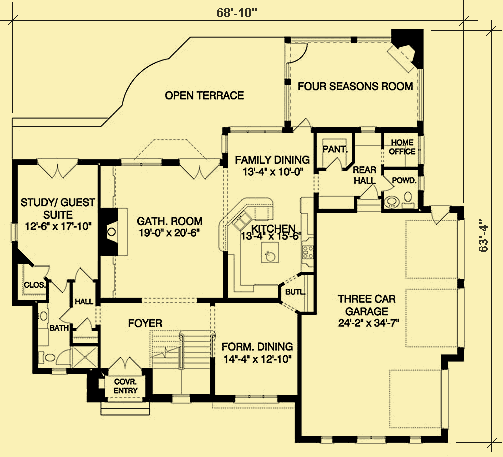door: (33, 158, 79, 181), (177, 157, 221, 181), (106, 355, 141, 371), (286, 42, 308, 66), (428, 204, 450, 228), (72, 266, 94, 284), (290, 117, 316, 132), (47, 278, 71, 292), (325, 157, 343, 175), (30, 263, 50, 279), (378, 175, 395, 191)
kitchen_bar: (228, 190, 274, 233)
large_sink: (36, 348, 56, 368), (399, 188, 416, 209)
small_sink: (35, 303, 50, 346)
stairs: (146, 329, 213, 397)
windows: (233, 391, 280, 407), (117, 154, 163, 169)
